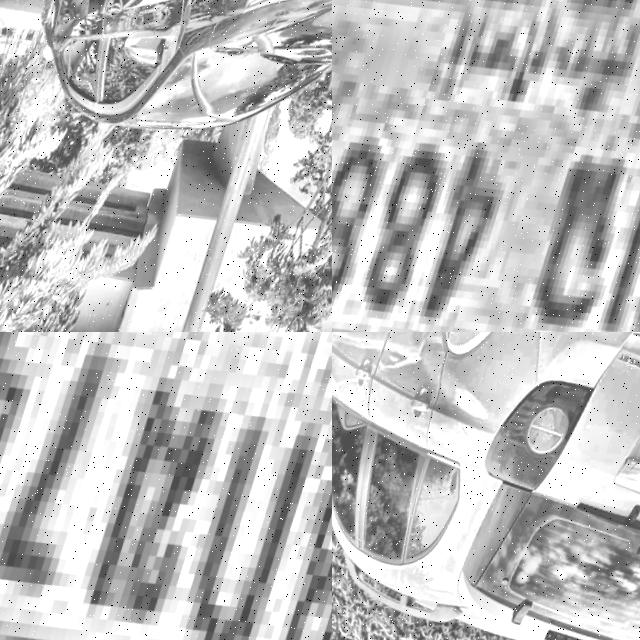license-plate: (332, 0, 640, 332), (0, 332, 332, 640)
